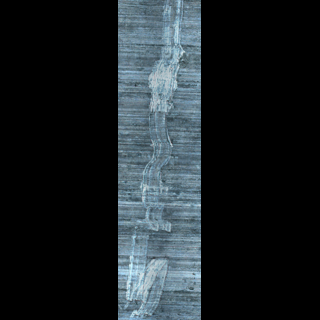d: (123, 0, 189, 317)
